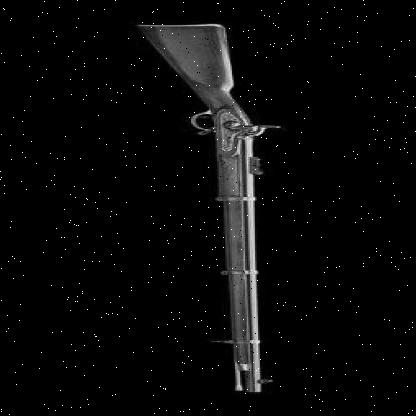rifle: (88, 22, 321, 407)
